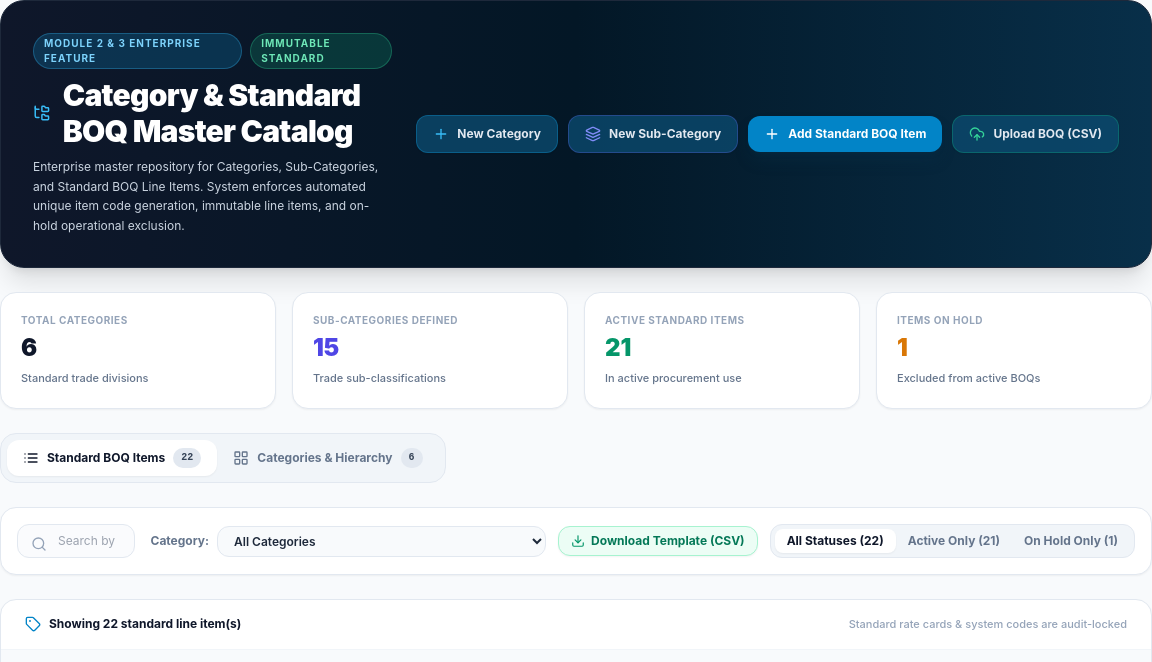
CategoryStandardBOQMaster & Master Catalog Governance › adds a new Category through AddCategoryModal and displays success banner
Click the button "New Category".
click(487, 134)  # box [416,115,558,153]
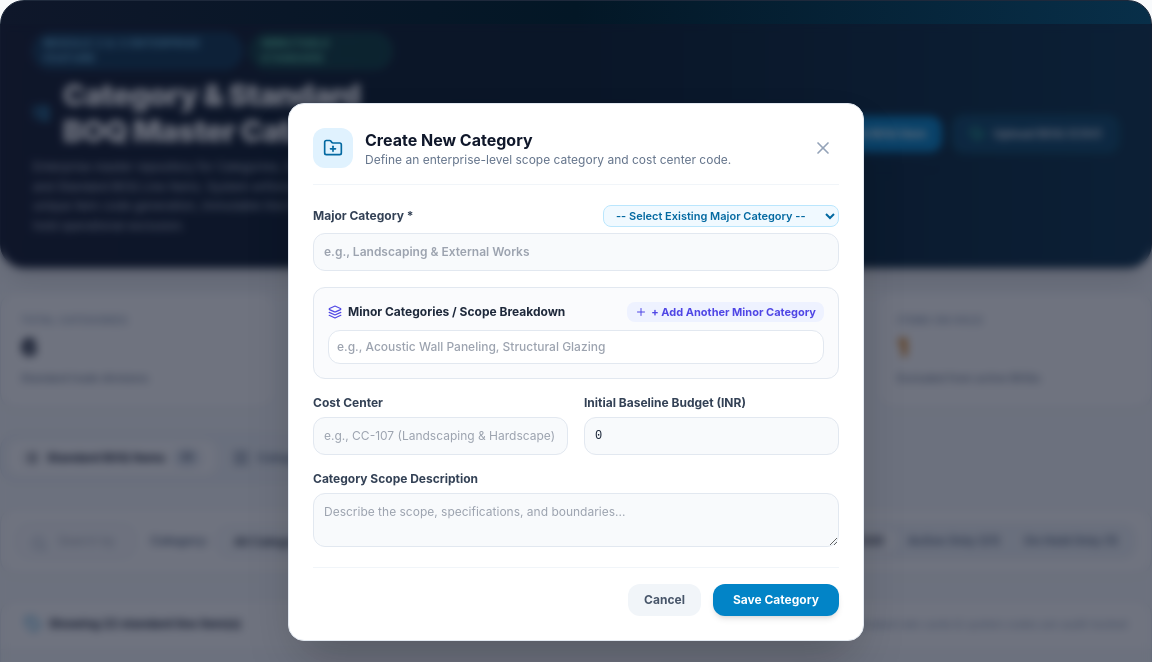
Check: the heading "Create New Category" is shown, box [365,130,532,150]
Type "Solar & Renewable Energy" into the field with placeholder "e.g., Landscaping & External Works".
click(576, 252); type("Solar & Renewable Energy")  # box [313,233,839,271]
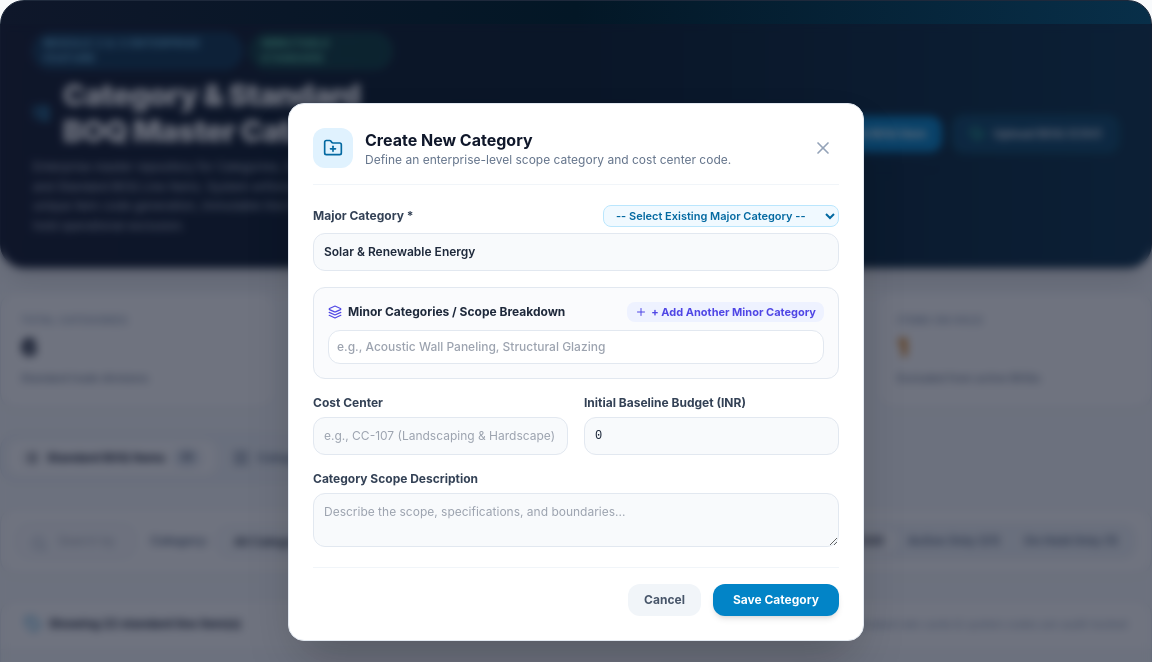
Type "CC-109 (Green Energy)" into the field with placeholder "e.g., CC-107 (Landscaping & Hardscape)".
click(440, 436); type("CC-109 (Green Energy)")  # box [313,417,568,455]
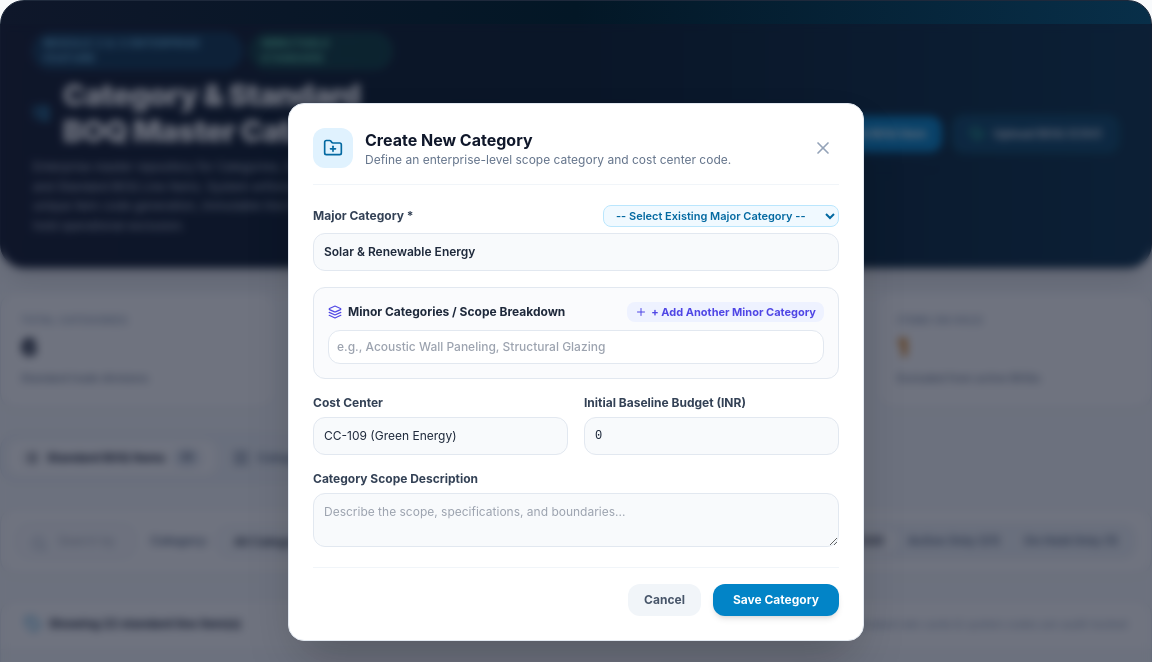
Type "Rooftop photovoltaic arrays and inverters" into the text box with placeholder "Describe the scope, specifications, and boundaries...".
click(576, 520); type("Rooftop photovoltaic arrays and inverters")  # box [313,493,839,547]
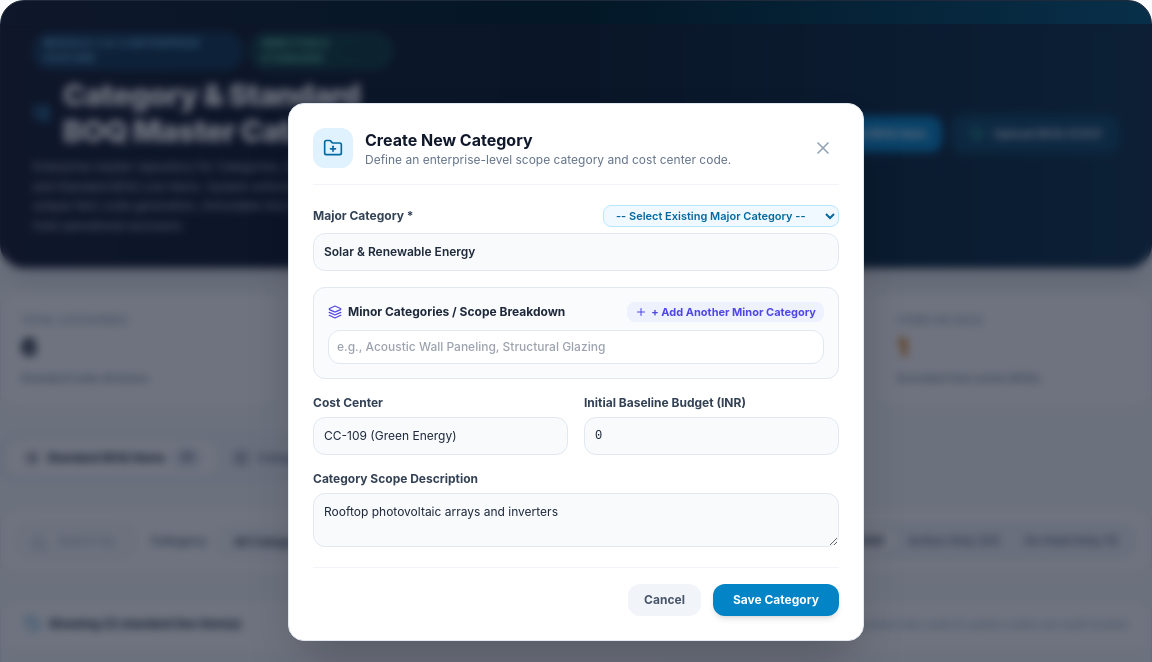
Click the button "Save Category".
click(776, 600)  # box [713,584,839,616]
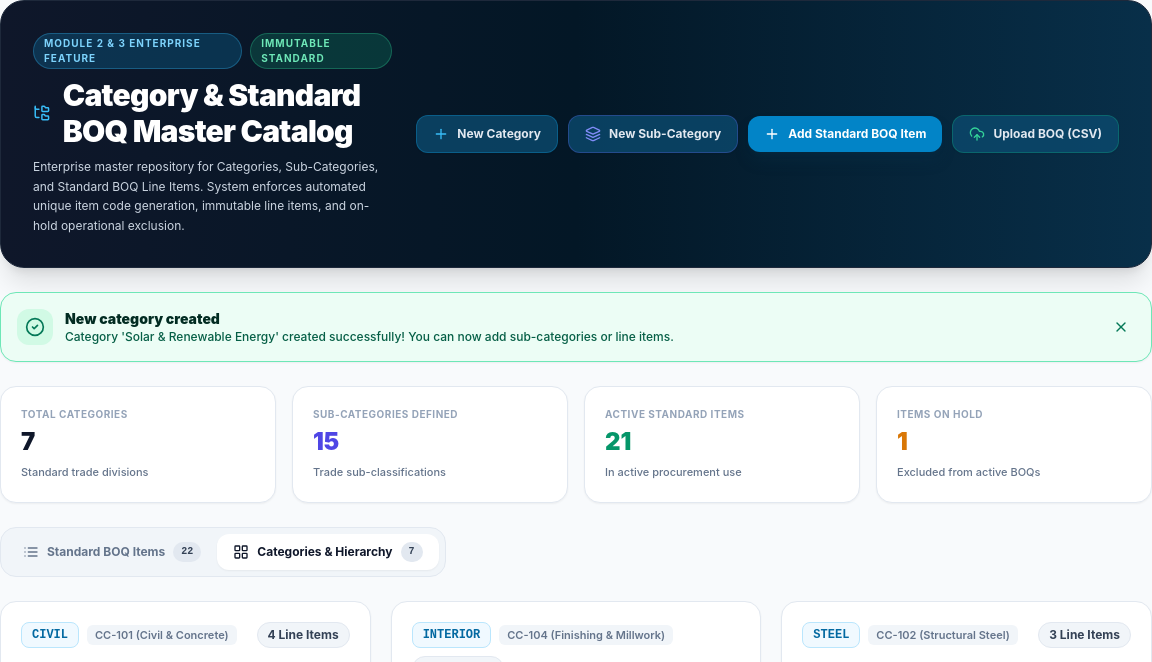
Check: the heading "Create New Category" is gone
